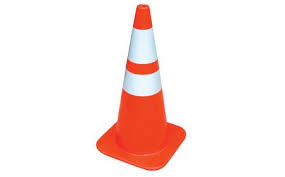cones: (96, 5, 189, 173)
